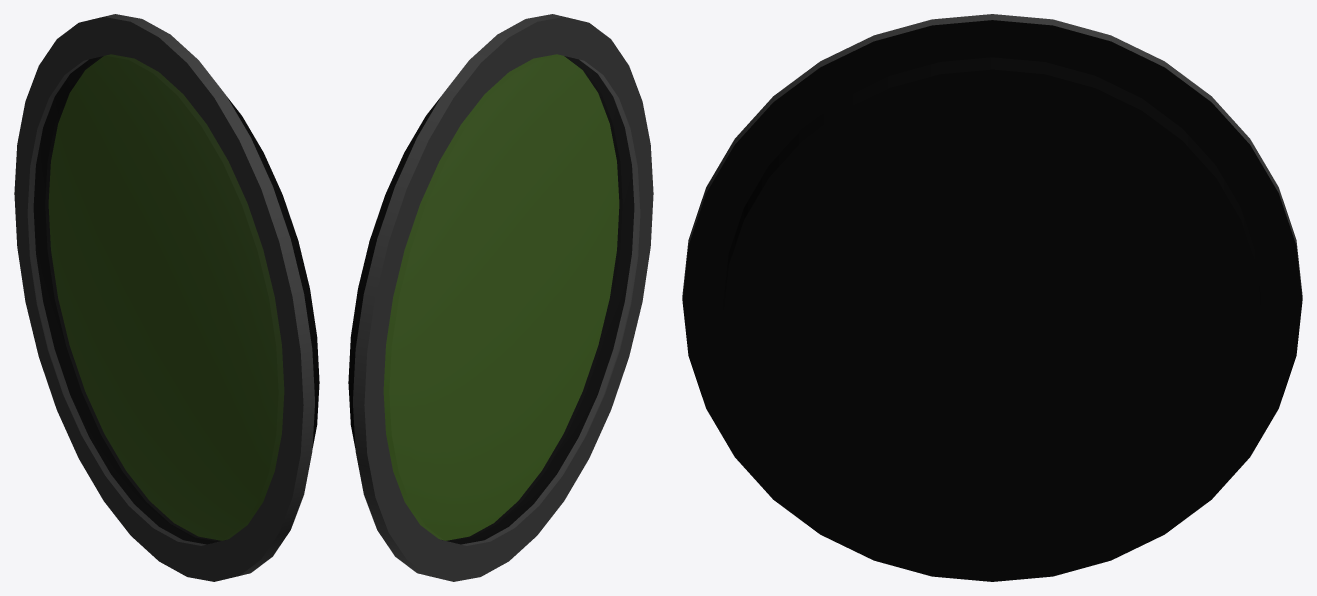
The model's file is psiREADER.fbx.
The picture shows the model from 3 angles, left to right: view 1: azimuth 30°, elevation 25°; view 2: azimuth 150°, elevation 25°; view 3: azimuth 270°, elevation 25°; orthographic projection. The views are drawn at different scales.
Parts seen in each view (by area): view 1: psiDisplay; view 2: psiDisplay; view 3: psiDisplay.
Part boxes in pixels (x1=…): psiDisplay: x1=14, y1=14, x2=319, y2=581; psiDisplay: x1=348, y1=14, x2=653, y2=581; psiDisplay: x1=682, y1=14, x2=1302, y2=581.
Size of the model in its own units: 13.3 by 84.54 by 84.54.
